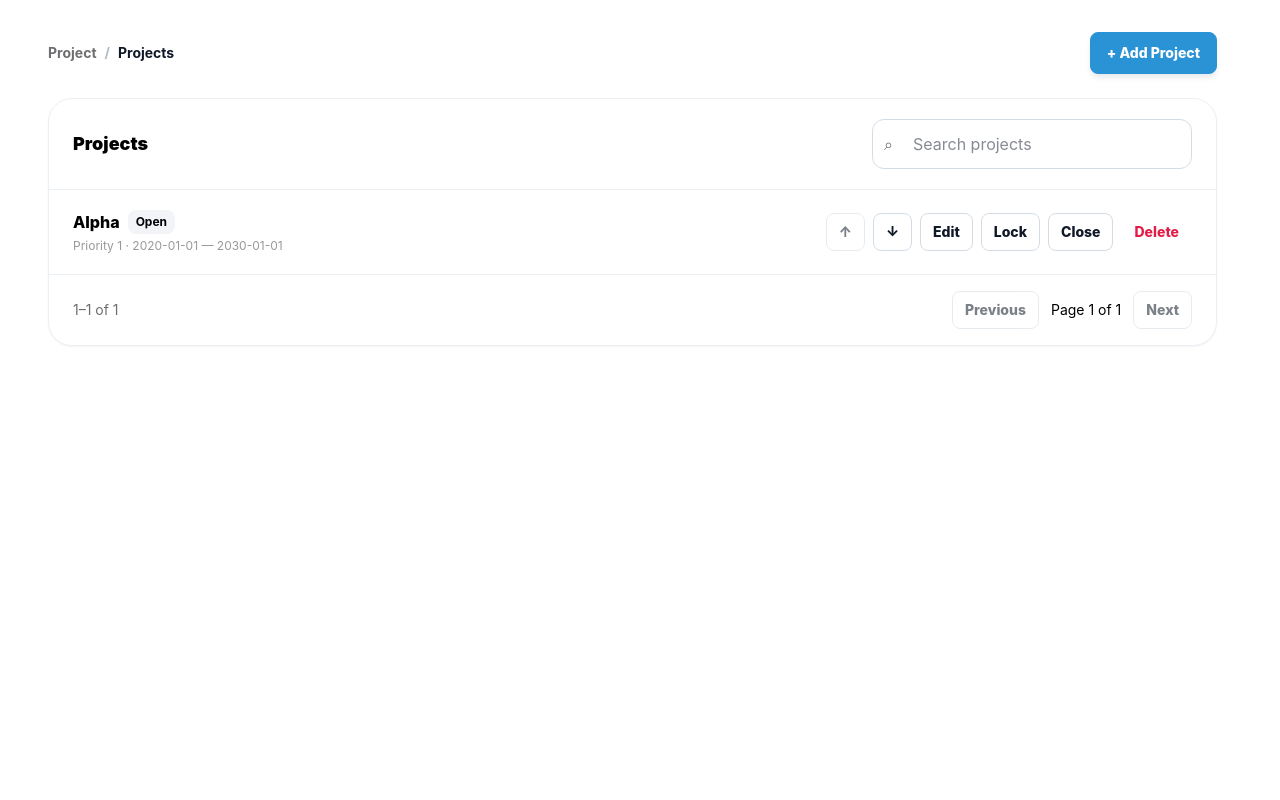
Test: US-4.3 Project Summary acceptance workflow › AC-30 AC-36 keeps Add standard and summary-free while Edit shows the ordinary empty state
Check: the heading "Alpha" is shown, box [73, 210, 120, 234]
Click the button "+ Add Project" at (1153, 53), box [1090, 32, 1217, 74]
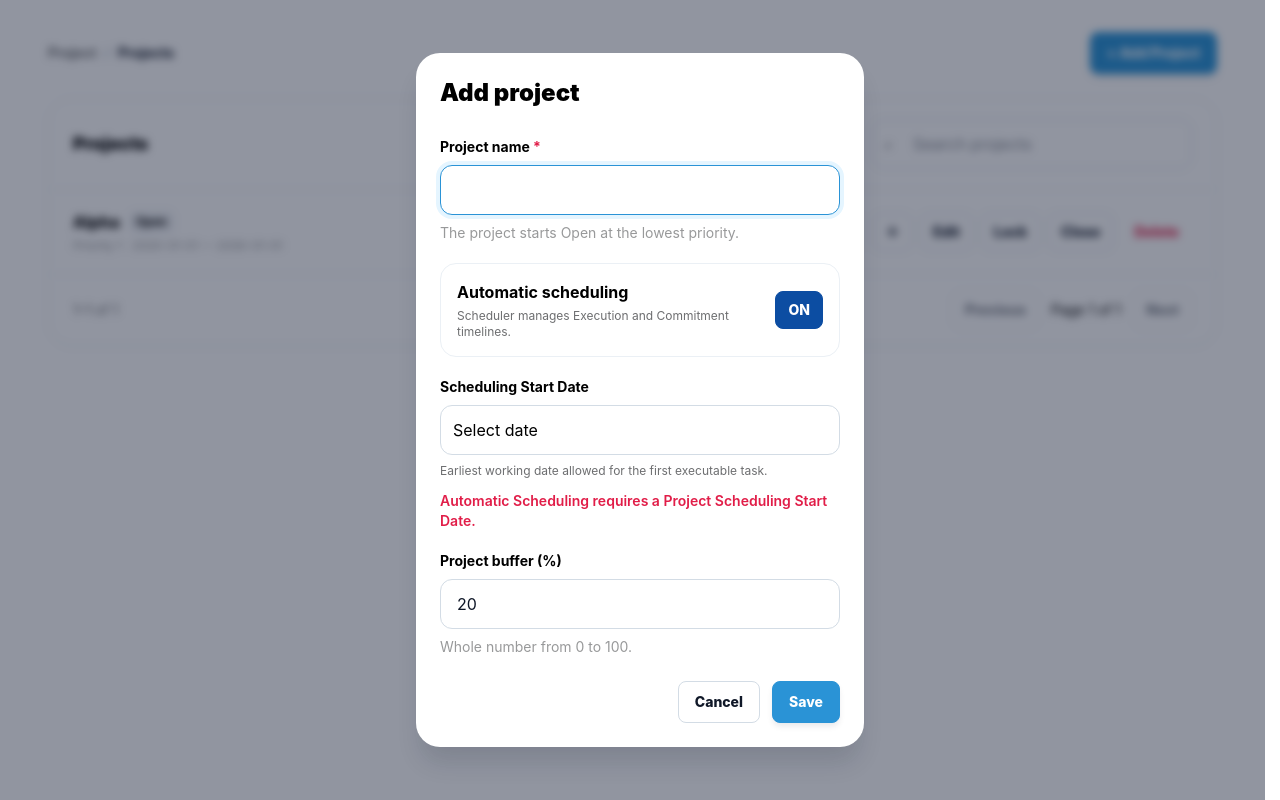
Check: the text "Project Summary" is not shown
Click the button "Cancel" at (719, 702), box [678, 681, 760, 723]
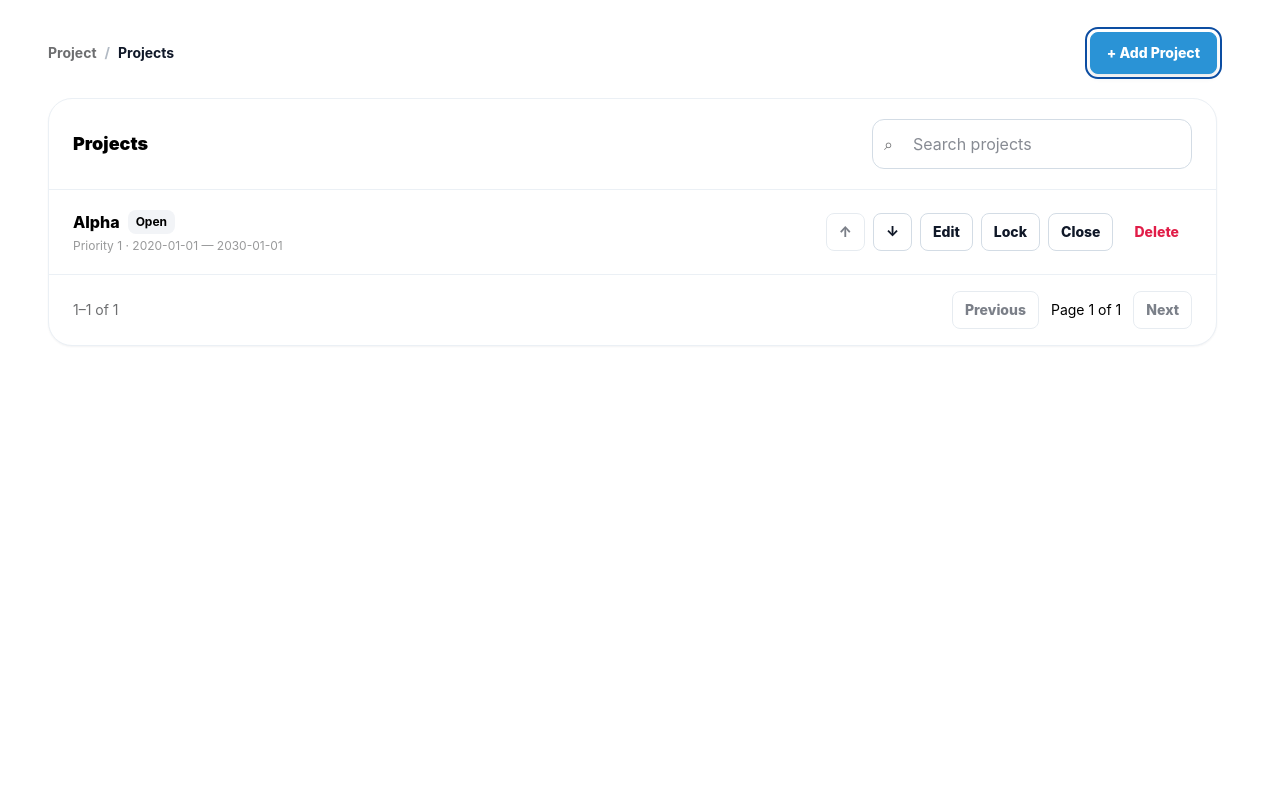
Check: the heading "Alpha" is shown, box [73, 210, 120, 234]
Click the button "Edit" at (946, 232), box [920, 213, 973, 251]
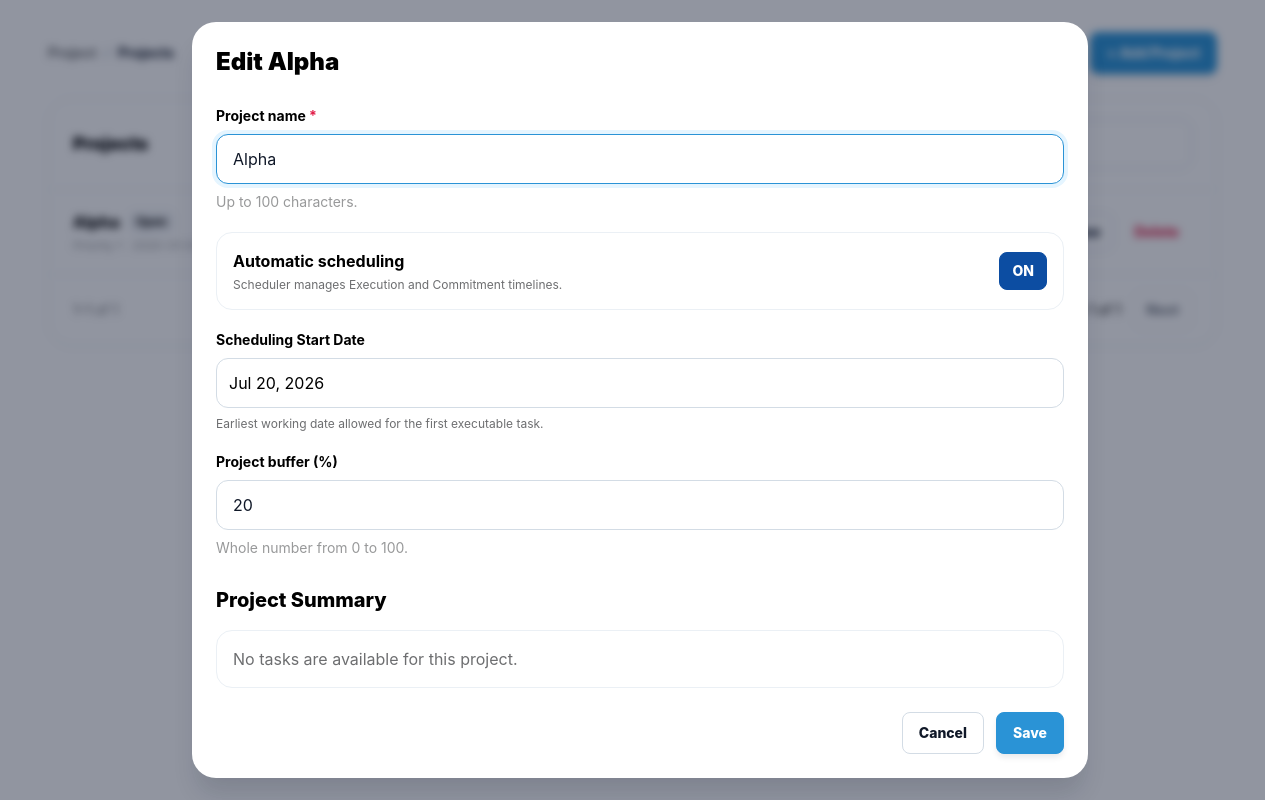
Check: the text "No tasks are available for this project." is shown, box [216, 630, 1064, 688]
